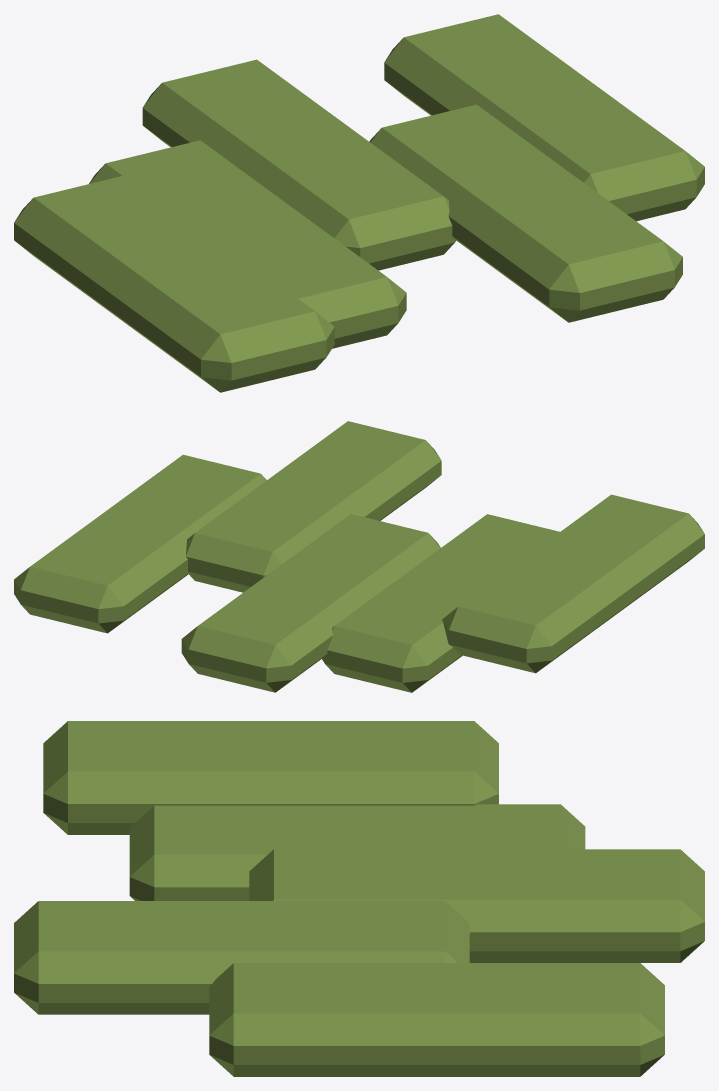
File: Arch_Moss_Cap.glb
3 views of the same model, one above another, from view 1: azimuth 30°, elevation 25°; view 2: azimuth 150°, elevation 25°; view 3: azimuth 270°, elevation 25° (orthographic). The views are drawn at different scales.
Visible parts, largest first — view 1: Arch_Moss_Cap__立方体, Arch_Moss_Cap__立方体.003, Arch_Moss_Cap__立方体.002, Arch_Moss_Cap__立方体.004, Arch_Moss_Cap__立方体.001; view 2: Arch_Moss_Cap__立方体, Arch_Moss_Cap__立方体.002, Arch_Moss_Cap__立方体.004, Arch_Moss_Cap__立方体.003, Arch_Moss_Cap__立方体.001; view 3: Arch_Moss_Cap__立方体.004, Arch_Moss_Cap__立方体, Arch_Moss_Cap__立方体.003, Arch_Moss_Cap__立方体.002, Arch_Moss_Cap__立方体.001.
Boxes of the visible parts, x1,y1,x2,y2 form: Arch_Moss_Cap__立方体: [14, 174, 334, 392]; Arch_Moss_Cap__立方体.003: [369, 104, 682, 322]; Arch_Moss_Cap__立方体.002: [142, 59, 456, 270]; Arch_Moss_Cap__立方体.004: [384, 14, 704, 221]; Arch_Moss_Cap__立方体.001: [89, 140, 406, 348]; Arch_Moss_Cap__立方体: [442, 494, 704, 673]; Arch_Moss_Cap__立方体.002: [181, 514, 440, 692]; Arch_Moss_Cap__立方体.004: [14, 454, 266, 633]; Arch_Moss_Cap__立方体.003: [186, 421, 441, 592]; Arch_Moss_Cap__立方体.001: [321, 514, 559, 692]; Arch_Moss_Cap__立方体.004: [209, 963, 664, 1076]; Arch_Moss_Cap__立方体: [43, 721, 498, 834]; Arch_Moss_Cap__立方体.003: [14, 901, 469, 1014]; Arch_Moss_Cap__立方体.002: [249, 849, 704, 962]; Arch_Moss_Cap__立方体.001: [129, 804, 585, 900].
Size of the model in its own units: 1.04 by 0.1377 by 0.9856.
